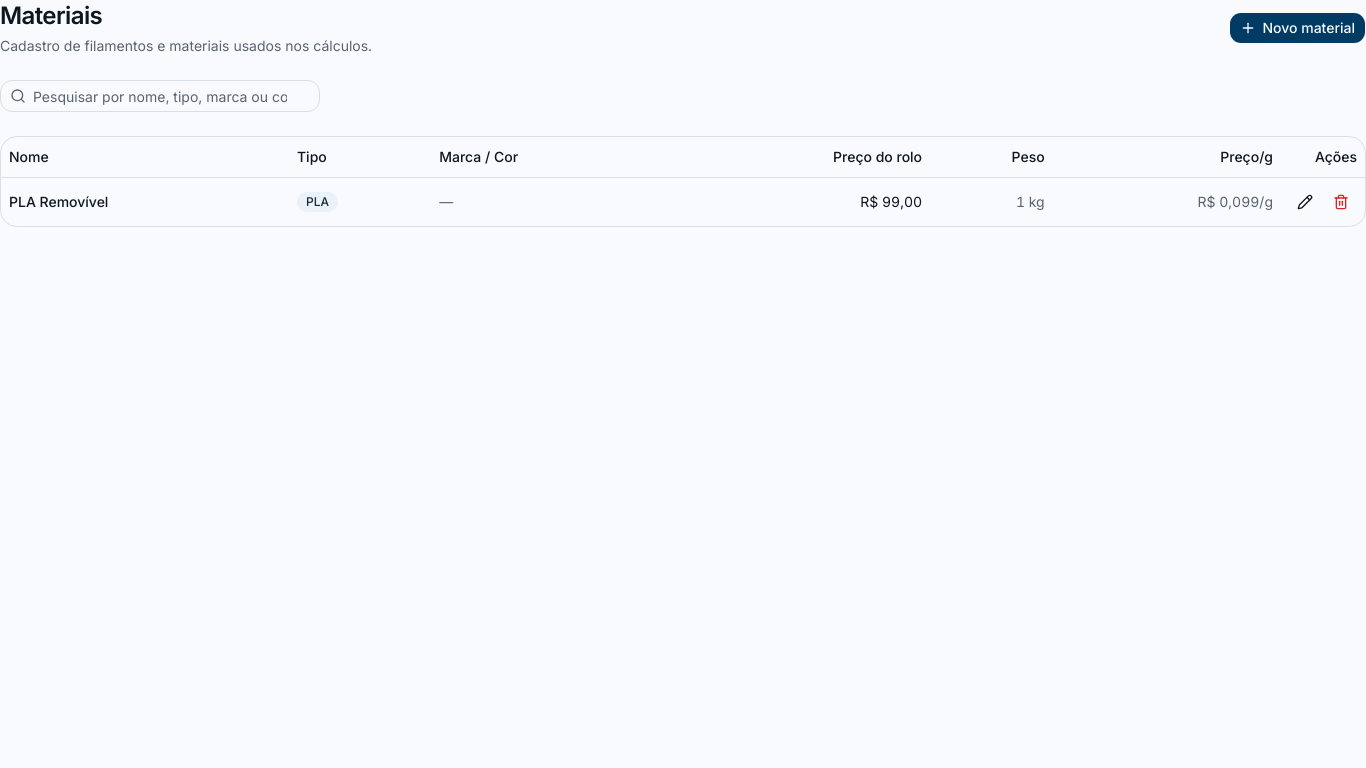
Test: MaterialsPage › exclui um material após confirmação
Expected: the text "PLA Removível" is shown, [1,177,289,226]
Click the button named "Excluir PLA Removível" at (1341, 202), box [1325,186,1357,218]
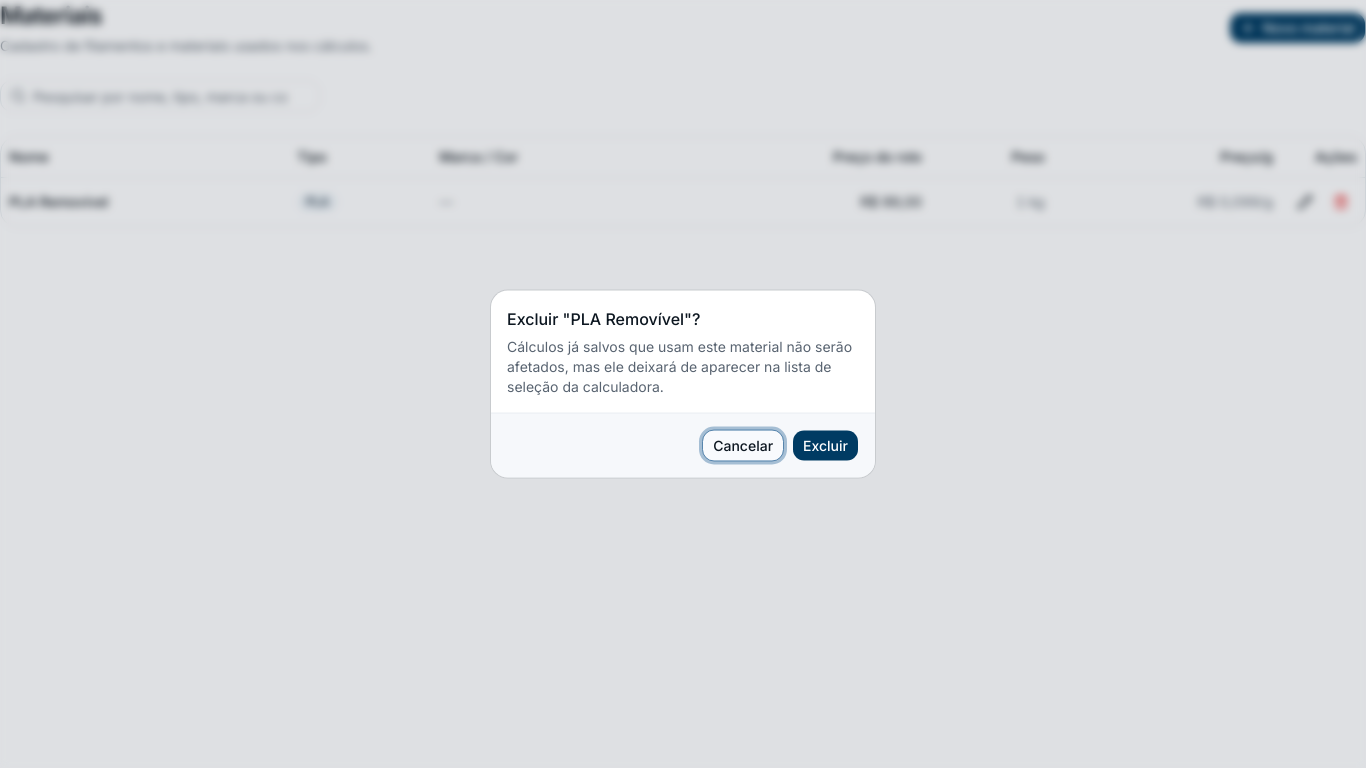
Click the button "Excluir" at (826, 446), box [792,430,859,462]
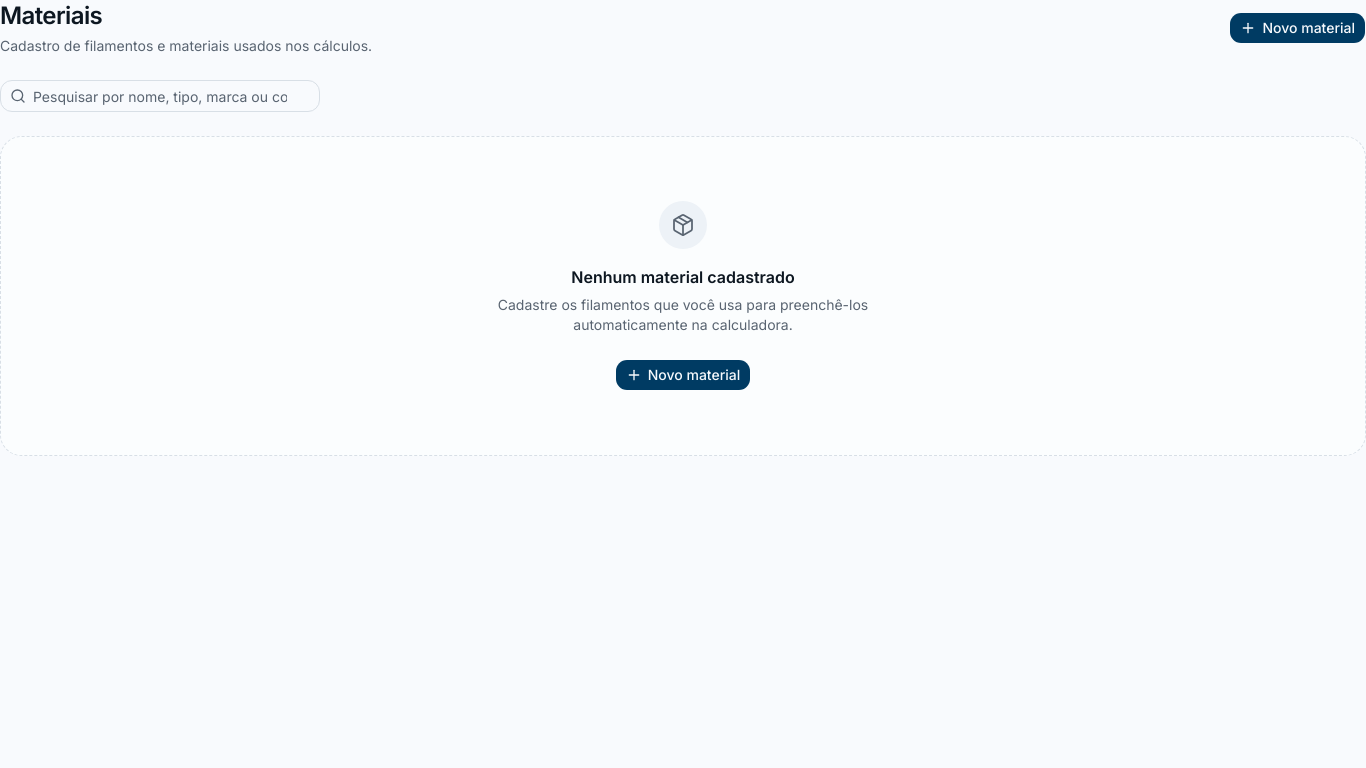
Now the text "PLA Removível" is gone
